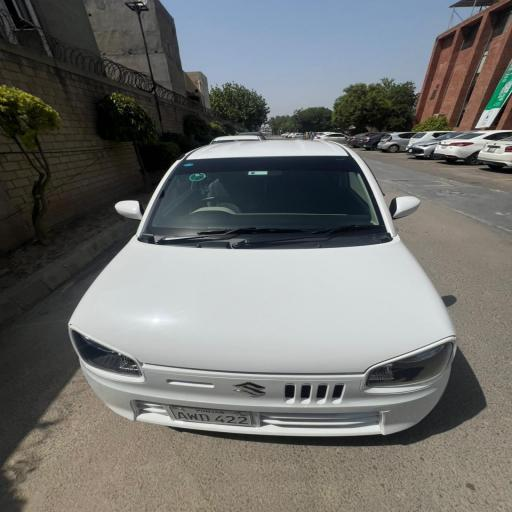bnu_sticker: (188, 170, 208, 183)
number_plate: (167, 404, 256, 428)
